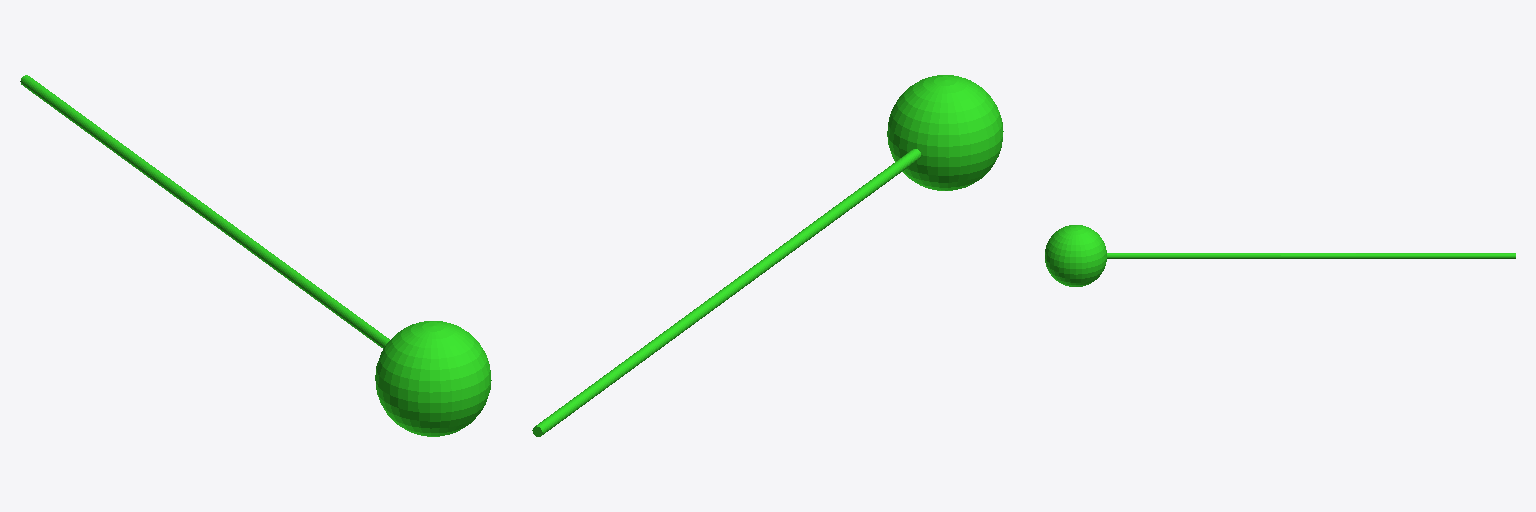
URDF robot description (strawberry_plant):
<?xml version="1.0" encoding="utf-8"?>
<robot name="strawberry_plant">
  <link name="world"/>
  <material name="Blue">
    <color rgba="0.28 0.52 0.92 1.0"/>0
  </material>
  <material name="red">
    <color rgba="0.9 0.2 0.2 1.0"/>0
  </material>
  <material name="green">
    <color rgba="0.25 0.9 0.2 1.0"/>0
  </material>

  <link name="Upperstem">
    <visual>
      <geometry>
        <sphere radius="0.01"/>
      </geometry>
      <origin rpy="0 0 0" xyz="0 0 0"/>
      <material name="green"/>
    </visual>
  </link>

  <joint name="joint0" type="fixed">
    <parent link="world"/>
    <child link="Upperstem"/>
    <origin rpy="0 0 0" xyz="0 0 0"/>
  </joint>

<!-- asdffffffffffffffffffffffffffffffffffffffffffffffffffffffffffffffffffffffffffffffffffffffff -->
<!-- asdffffffffffffffffffffffffffffffffffffffffffffffffffffffffffffffffffffffffffffffffffffffff -->
<!-- asdffffffffffffffffffffffffffffffffffffffffffffffffffffffffffffffffffffffffffffffffffffffff -->
<!-- asdffffffffffffffffffffffffffffffffffffffffffffffffffffffffffffffffffffffffffffffffffffffff -->

  <link name="stem">
    <visual>
      <geometry>
        <cylinder radius="0.001" length="0.13"/>
      </geometry>
      <origin rpy="1.57 0 0" xyz="0 0.075 0"/>
      <material name="green"/>
    </visual>
    <collision>
      <geometry>
        <cylinder radius="0.001" length="0.13"/>
      </geometry>
      <origin rpy="1.57 0 0" xyz="0 0.075 0"/>
    </collision>
    <inertial>
      <origin rpy="1.57 0 0" xyz="0 0.075 0"/>
      <mass value="0.01"/>
        <inertia  ixx="0.00001" ixy="0.0" ixz="0.0"
                  iyy="0.00001" iyz="0.0"
                  izz="0.00001" />    
    </inertial>
  </link>

  <link name="inner_jointlink_1"/>
  <joint name="innerjoint1" type="revolute" >
    <parent link="Upperstem" />
    <child link="inner_jointlink_1" />
    <origin xyz="0 0 0" rpy="0 0 0"/>
    <axis xyz="1 0 0" />
    <dynamics damping="0.0001" friction="0.0002"/>
    <limit
      lower="-10" upper="10"
      effort="1" velocity="0.1" />
  </joint>

  <link name="inner_jointlink_2"/>
  <joint name="innerjoint2" type="revolute" >
    <parent link="inner_jointlink_1" />
    <child link="inner_jointlink_2" />
    <origin xyz="0 0 0" rpy="0 0 0"/>
    <axis xyz="0 1 0" />
    <dynamics damping="0.0001" friction="0.0002"/>
    <limit
      lower="-10" upper="10"
      effort="1" velocity="0.1" />
  </joint>

  <joint name="innerjoint3" type="revolute" >
    <parent link="inner_jointlink_2" />
    <child link="stem" />
    <origin xyz="0 0 0" rpy="0 0 0"/>
    <axis xyz="0 0 1" />
    <dynamics damping="0.0001" friction="0.0002"/>
    <limit
      lower="-10" upper="10"
      effort="1" velocity="0.1" />
  </joint>


<!-- asdffffffffffffffffffffffffffffffffffffffffffffffffffffffffffffffffffffffffffffffffffffffff -->
<!-- asdffffffffffffffffffffffffffffffffffffffffffffffffffffffffffffffffffffffffffffffffffffffff -->
<!-- asdffffffffffffffffffffffffffffffffffffffffffffffffffffffffffffffffffffffffffffffffffffffff -->
<!-- asdffffffffffffffffffffffffffffffffffffffffffffffffffffffffffffffffffffffffffffffffffffffff -->



  <link name="strawberry">
    <visual>
      <geometry>
        <mesh filename="meshes/strawberry.obj" scale="0.01 0.01 0.01"/>
      </geometry>
      <origin rpy="1.57 0 0" xyz="-0.005 0.15 -0.005"/>
      <material name="red"/>
    </visual>
    <collision>
      <geometry>
        <mesh filename="meshes/strawberry.obj" scale="0.01 0.01 0.01"/>
      </geometry>
      <origin rpy="1.57 0 0" xyz="-0.005 0.15 -0.005"/>
    </collision>
    <inertial>
      <origin rpy="1.57 0 0" xyz="-0.005 0.15 -0.005"/>
      <mass value="0.04"/>
        <inertia  ixx="0.00001" ixy="0.0" ixz="0.0"
                  iyy="0.00001" iyz="0.0"
                  izz="0.00001" />    
    </inertial>
  </link>

  <joint name="joint2" type="fixed">
    <parent link="stem"/>
    <child link="strawberry"/>
    <origin rpy="0 0 0" xyz="0 0 0"/>
  </joint>

</robot>

--- What the picture shows (computed from the rendered views, not written in the file) ---
Views: 3 orthographic renders of the robot side by side, from view 1: azimuth 30°, elevation 25°; view 2: azimuth 150°, elevation 25°; view 3: azimuth 270°, elevation 25°.
Robot: strawberry_plant — 6 links, 5 joints (3 revolute, 2 fixed); root link world; default pose: every joint at zero.
Visible links, largest first — view 1: Upperstem, stem; view 2: Upperstem, stem; view 3: Upperstem, stem.
Boxes of the visible links, box(x1,y1,x2,y2) form: Upperstem: box(375, 321, 491, 436); stem: box(20, 75, 389, 348); Upperstem: box(887, 75, 1003, 190); stem: box(532, 149, 920, 436); Upperstem: box(1045, 225, 1106, 286); stem: box(1107, 253, 1515, 258).
Size in the robot's own frame: 0.02 by 0.15 by 0.02 metres.
Meshes: 1 distinct files referenced, 0 mesh visuals loaded (none loaded); not drawn: 1 (reference not matched to a file when rendering).